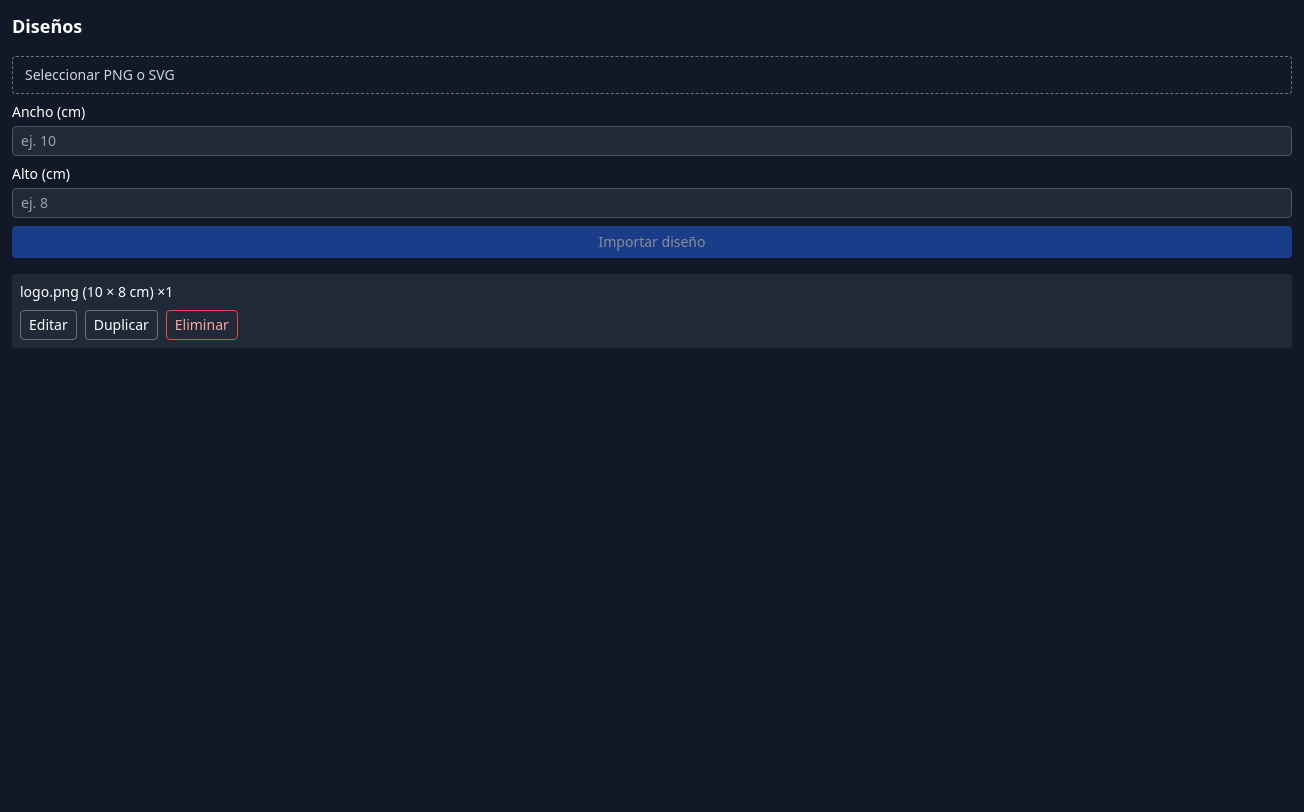
Test: DesignList editing UI › shows Spanish validation feedback when quantity is less than one
Click the button with aria-label "editar logo.png". click: (48, 325)
box: [20,310,77,340]
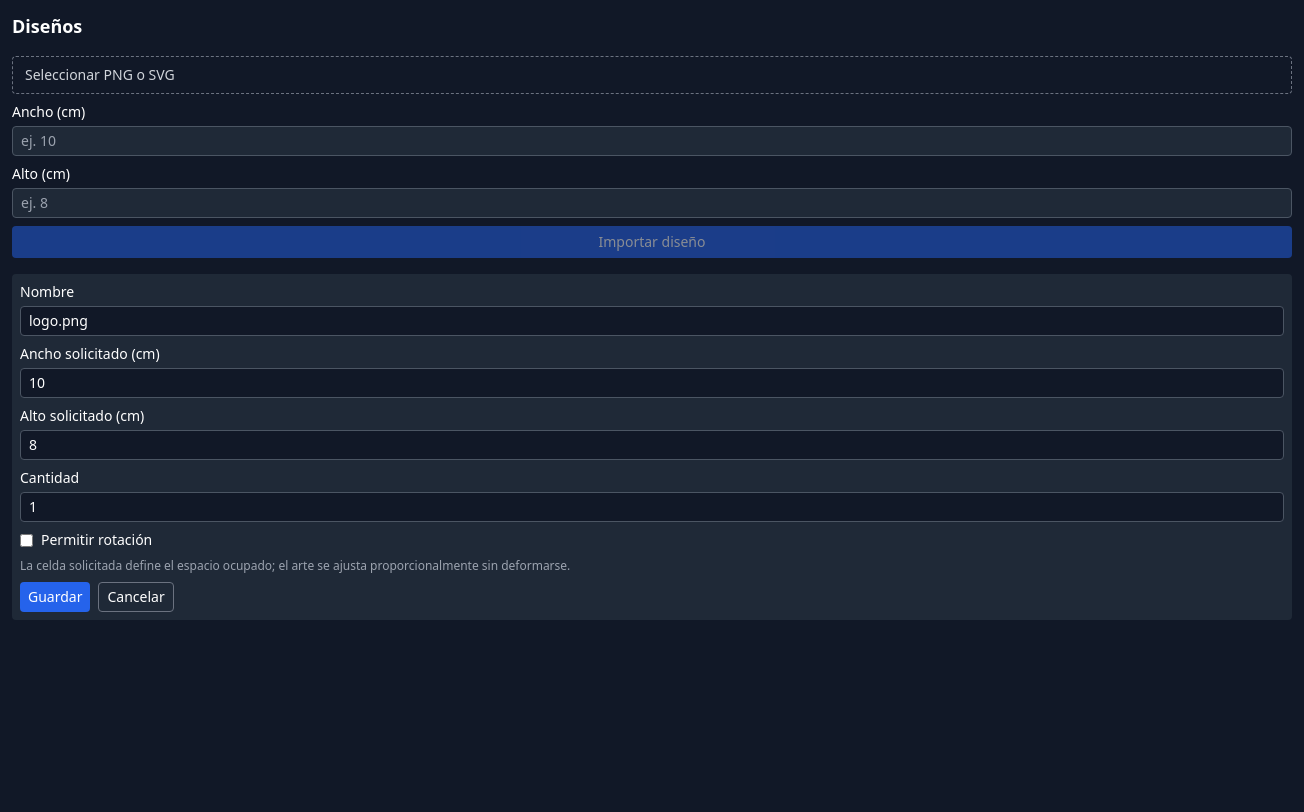
Replace the text in the number field labelled "Cantidad" with "0". click: (652, 507)
box: [20,492,1284,522]
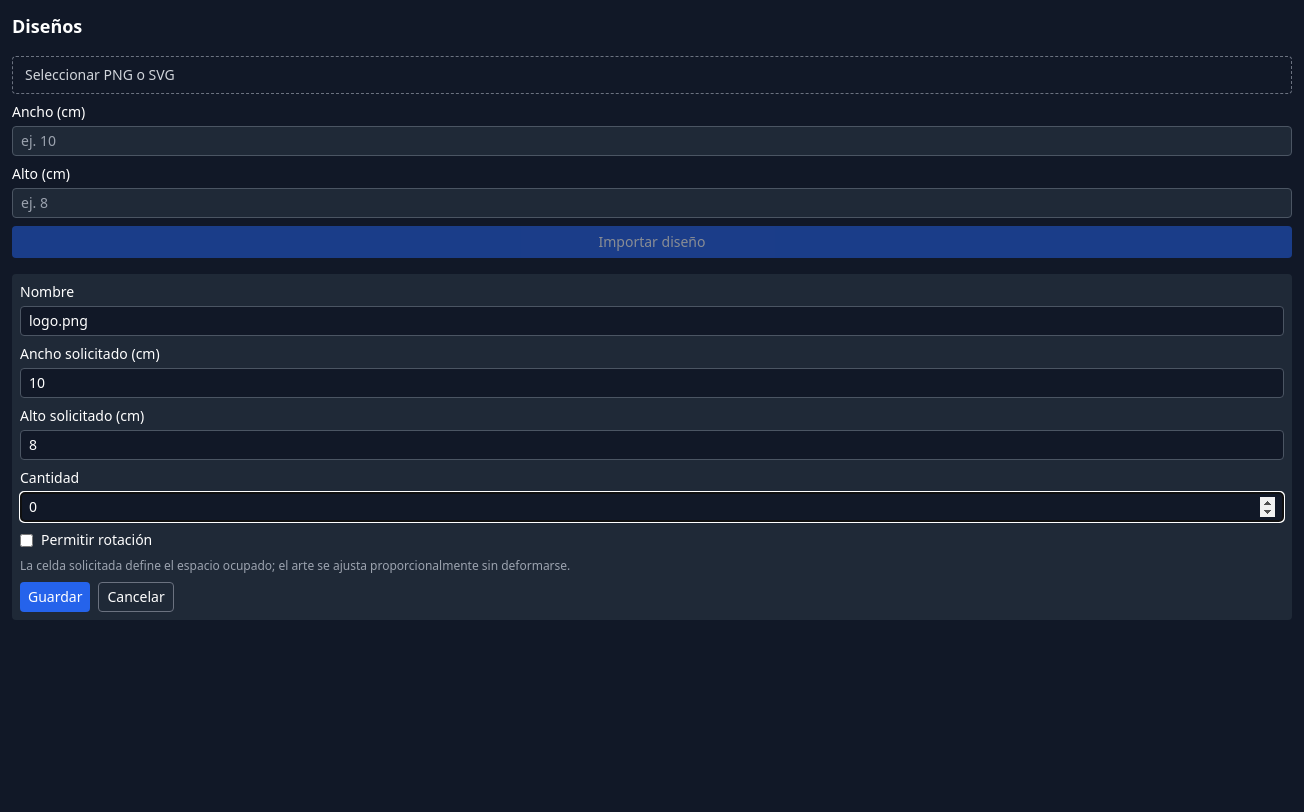
Click the button with aria-label "guardar cambios". click: (55, 597)
box: [20,582,90,612]
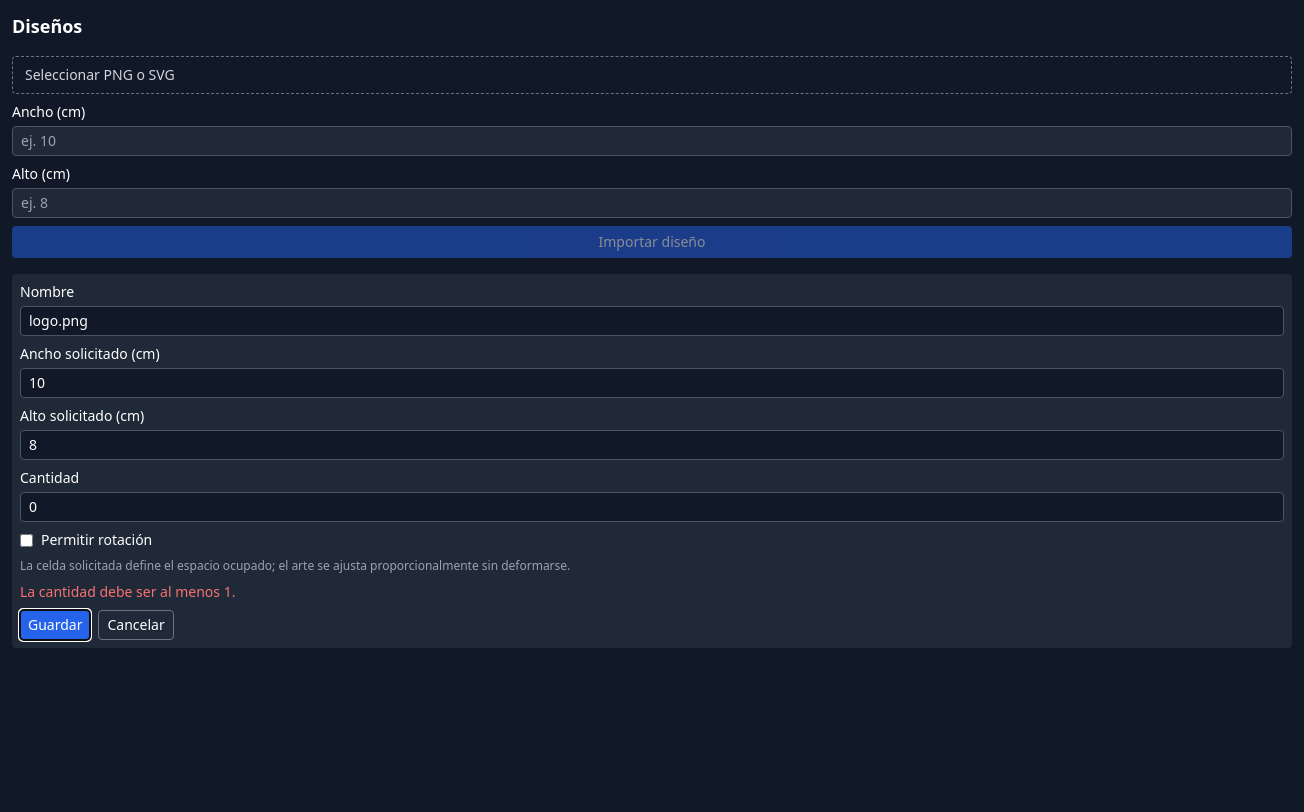
Check: the message reads "La cantidad debe ser al menos 1.", box [20,582,235,601]
